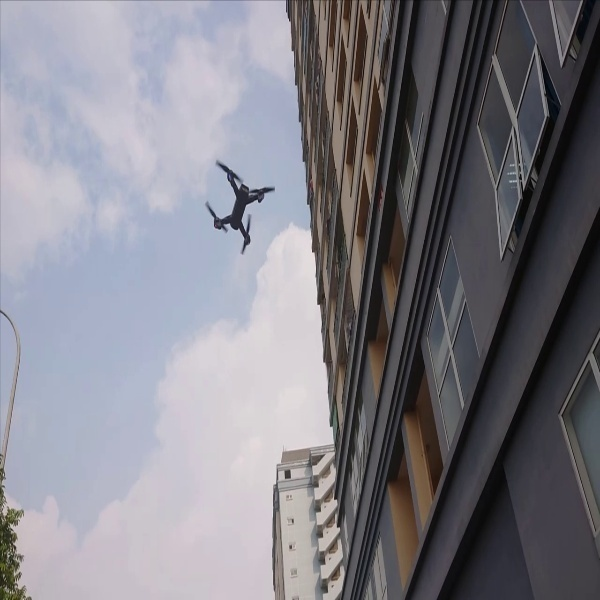drone: (204, 153, 274, 255)
